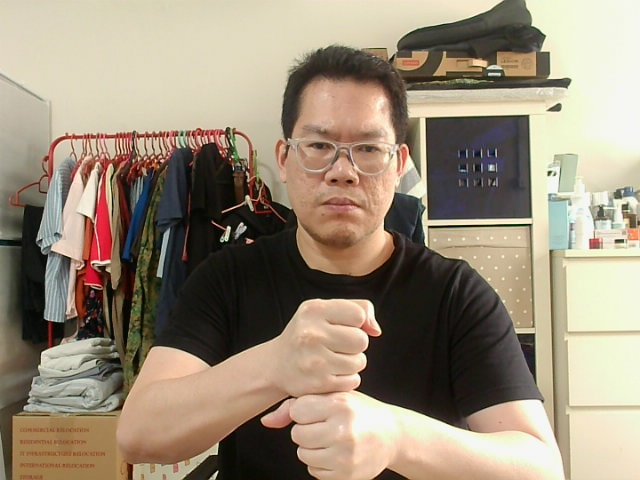get: (268, 308, 374, 385)
